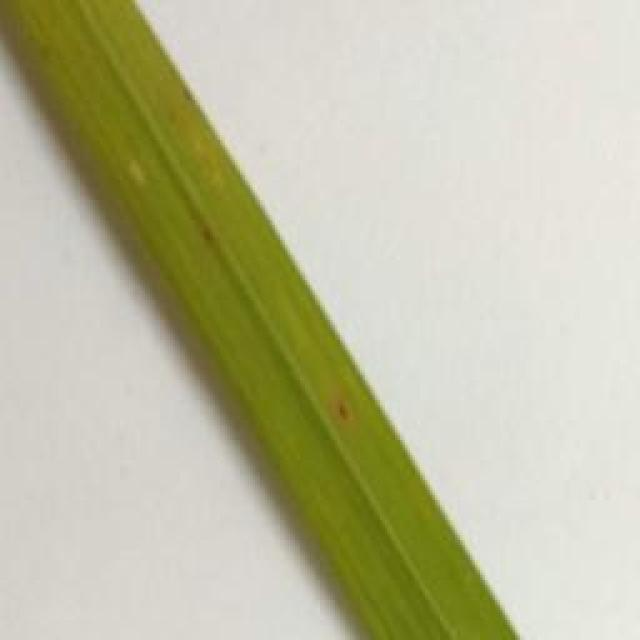Brown_Spot: (194, 216, 231, 254), (329, 392, 350, 425)
